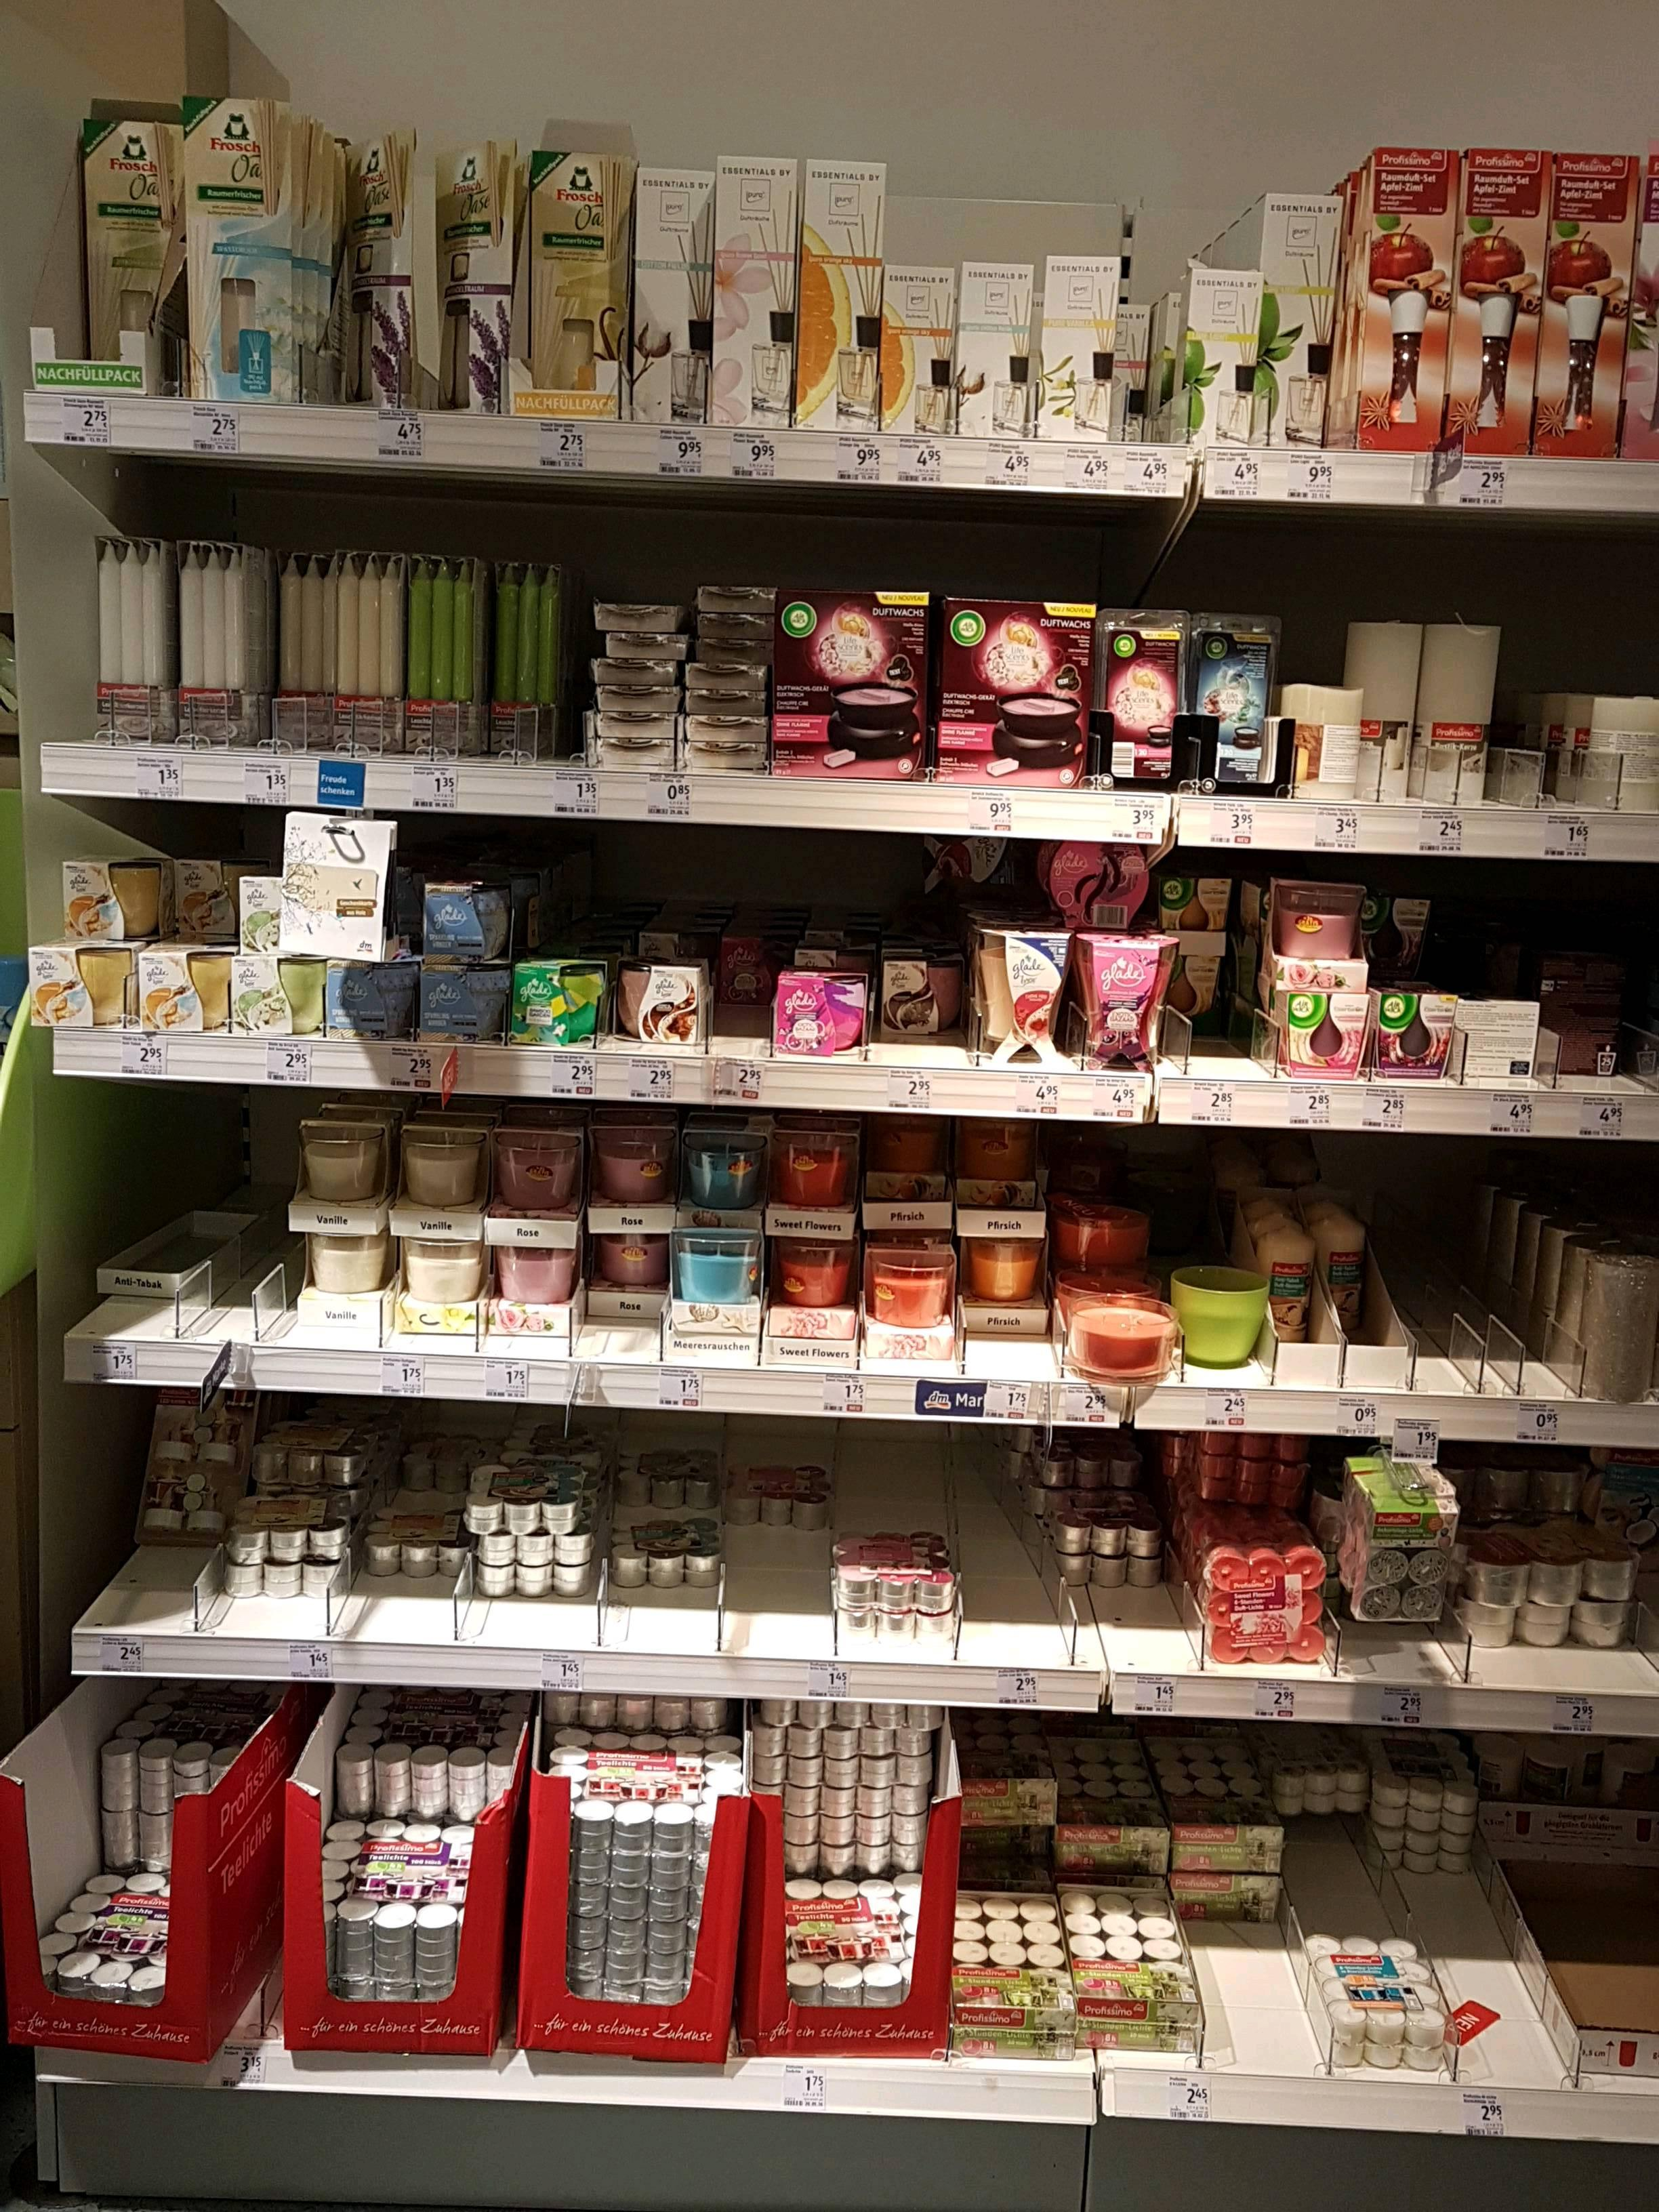empty: (1457, 1853, 1558, 2085), (1204, 1853, 1305, 2085), (960, 1440, 1049, 1648), (723, 1529, 835, 1674), (1073, 1566, 1199, 1667), (481, 1548, 605, 1649), (343, 1541, 467, 1642), (85, 1533, 209, 1634), (1312, 1777, 1384, 1951), (840, 1433, 938, 1536), (613, 1554, 711, 1656), (1180, 972, 1267, 1075), (716, 885, 769, 1047), (1509, 639, 1561, 801)
